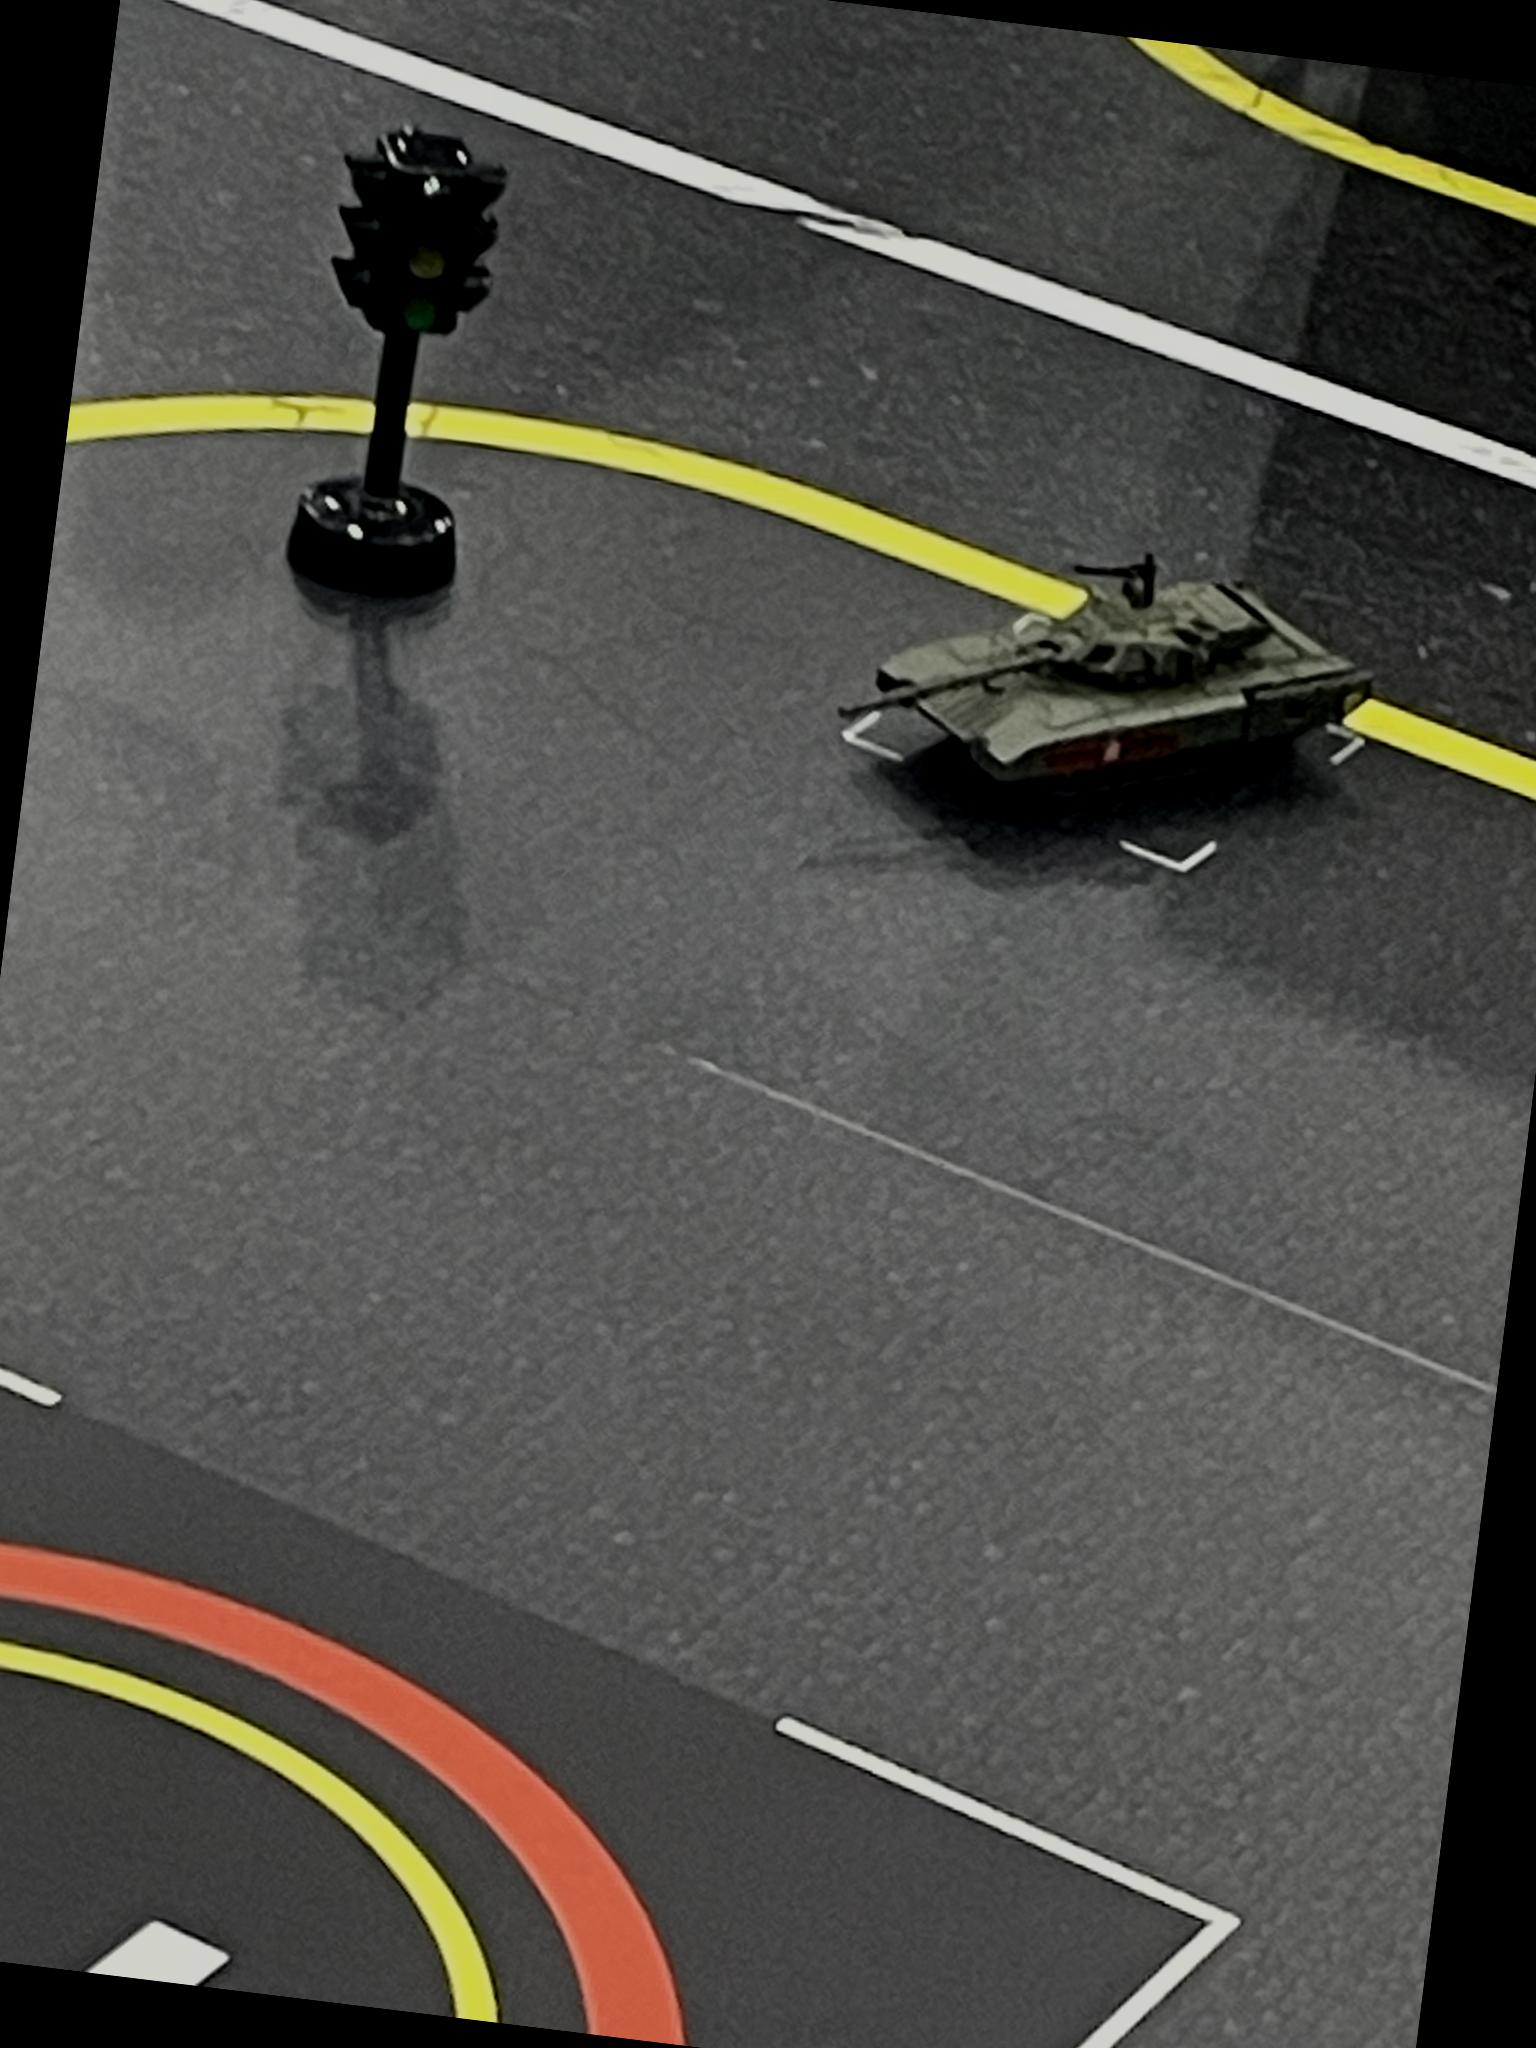Tank: (821, 506, 1413, 863)
